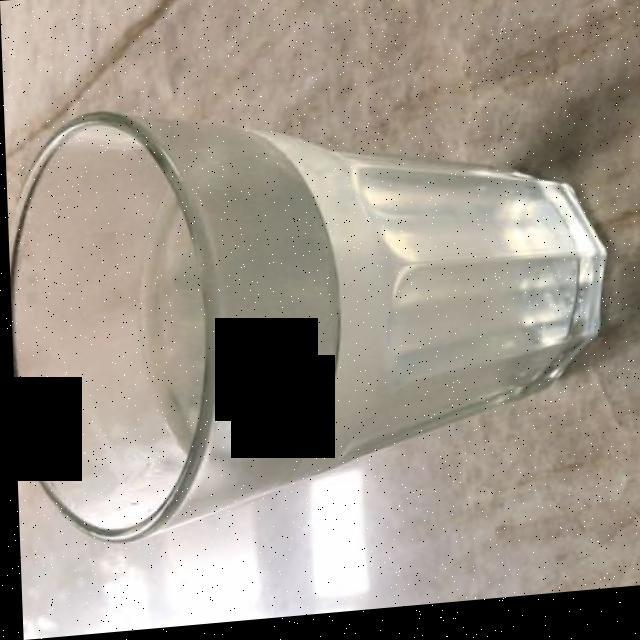drink: (125, 140, 582, 509)
